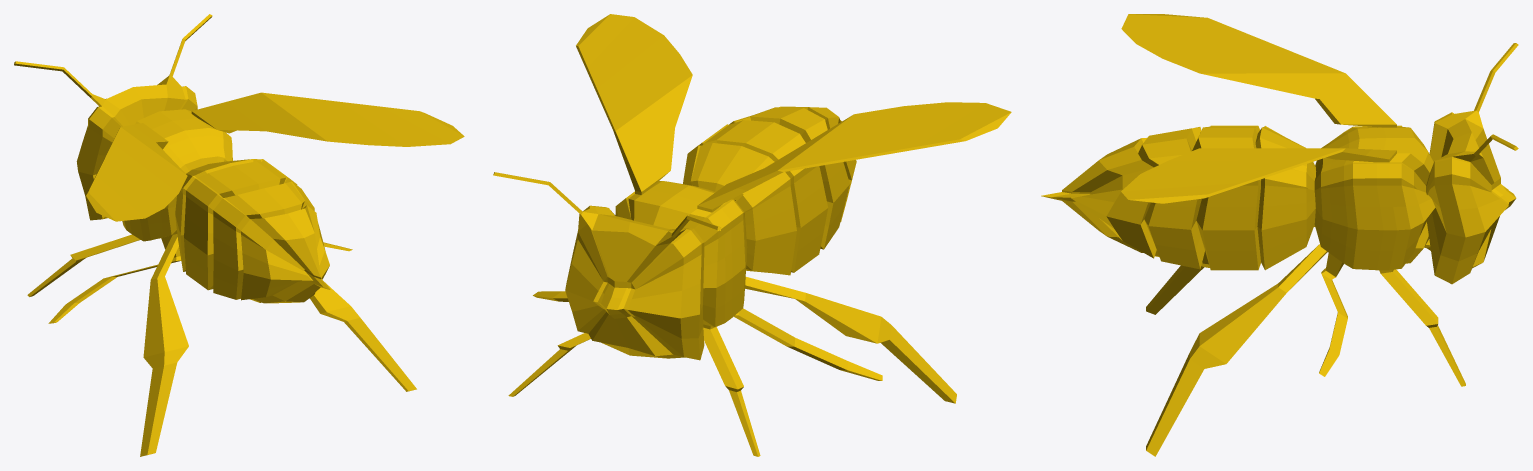
File: bee.fbx
3 views of the same model, side by side, from view 1: azimuth 30°, elevation 25°; view 2: azimuth 150°, elevation 25°; view 3: azimuth 270°, elevation 25° (orthographic). The views are drawn at different scales.
Parts seen in each view (by area): view 1: Cube; view 2: Cube; view 3: Cube.
Boxes of the visible parts, x1=… form: Cube: x1=14, y1=14, x2=464, y2=456; Cube: x1=493, y1=14, x2=1011, y2=456; Cube: x1=1041, y1=14, x2=1518, y2=456.
Size of the model in its own units: 69.55 by 49.36 by 74.11.
